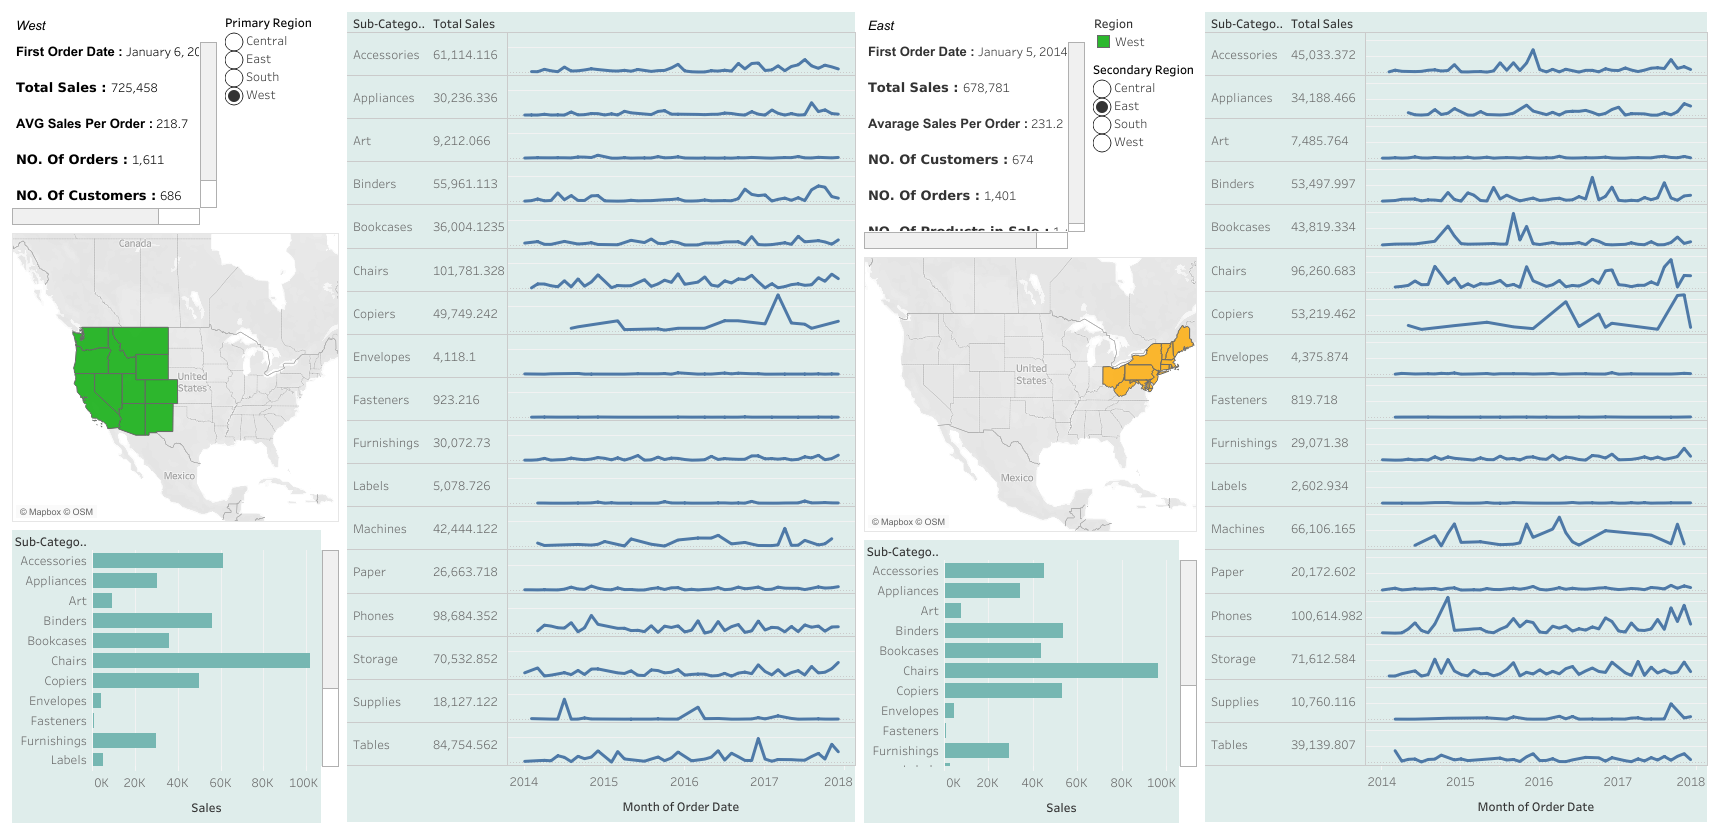

The page's visual inventory and layout, read from the dashboard file:
{"tool":"tableau","page":{"name":"Dashboard 1","canvas":[1000,1000],"units":"permille","ordinal":0},"visuals":[{"type":"worksheet","title":"PrimaryDetails","mark":"Automatic","box":[4.7,9.3,123.8,265.1]},{"type":"parameter","param":"[Parameters].[Sub-Category Parameter]","box":[128.5,9.3,70.9,265.1]},{"type":"worksheet","title":"PrimaryLineGraph","mark":"Line","rows":["Sub-Category","Calculation_1743174553772990474","Sales"],"cols":["Order Date"],"box":[199.4,9.3,300.6,981.4]},{"type":"worksheet","title":"SecondaryDetails","mark":"Automatic","box":[500,9.3,133.1,293]},{"type":"legend","title":"PrimaryMap","param":"[federated.1oyeo0c1ium6n51ge0g7r1ur0ztb].[none:Region:nk]","box":[633.1,9.3,65.1,53.5]},{"type":"worksheet","title":"SecondaryLineGraph","mark":"Line","rows":["Sub-Category","Calculation_1743174553772990474","Sales"],"cols":["Order Date"],"box":[698.3,9.3,297.1,981.4]},{"type":"parameter","param":"[Parameters].[Region Parameter]","box":[633.1,62.8,65.1,125.6]},{"type":"worksheet","title":"PrimaryMap","mark":"Multipolygon","box":[4.7,274.4,194.8,355.8]},{"type":"worksheet","title":"SecondaryMap","mark":"Multipolygon","box":[500,302.3,198.3,339.5]},{"type":"worksheet","title":"PrimaryGraph","mark":"Automatic","rows":["Sub-Category"],"cols":["Sales"],"box":[4.7,630.2,194.8,360.5]},{"type":"worksheet","title":"SecondaryGraph","mark":"Automatic","rows":["Sub-Category"],"cols":["Sales"],"box":[500,641.9,198.3,348.8]}]}

Visuals, with their boxes on the dashboard's canvas, which has no fixed pixel size, in thousandths of its width and height (x1, y1, x2, y2). These are canvas units, not pixel positions in the 1719x834 screenshot, which may show the page scaled, cropped or inside an application window:
"PrimaryDetails" worksheet: (x1=5, y1=9, x2=128, y2=274)
parameter: (x1=128, y1=9, x2=199, y2=274)
"PrimaryLineGraph" worksheet (Line marks): (x1=199, y1=9, x2=500, y2=991)
"SecondaryDetails" worksheet: (x1=500, y1=9, x2=633, y2=302)
"PrimaryMap" legend: (x1=633, y1=9, x2=698, y2=63)
"SecondaryLineGraph" worksheet (Line marks): (x1=698, y1=9, x2=995, y2=991)
parameter: (x1=633, y1=63, x2=698, y2=188)
"PrimaryMap" worksheet (Multipolygon marks): (x1=5, y1=274, x2=200, y2=630)
"SecondaryMap" worksheet (Multipolygon marks): (x1=500, y1=302, x2=698, y2=642)
"PrimaryGraph" worksheet: (x1=5, y1=630, x2=200, y2=991)
"SecondaryGraph" worksheet: (x1=500, y1=642, x2=698, y2=991)
